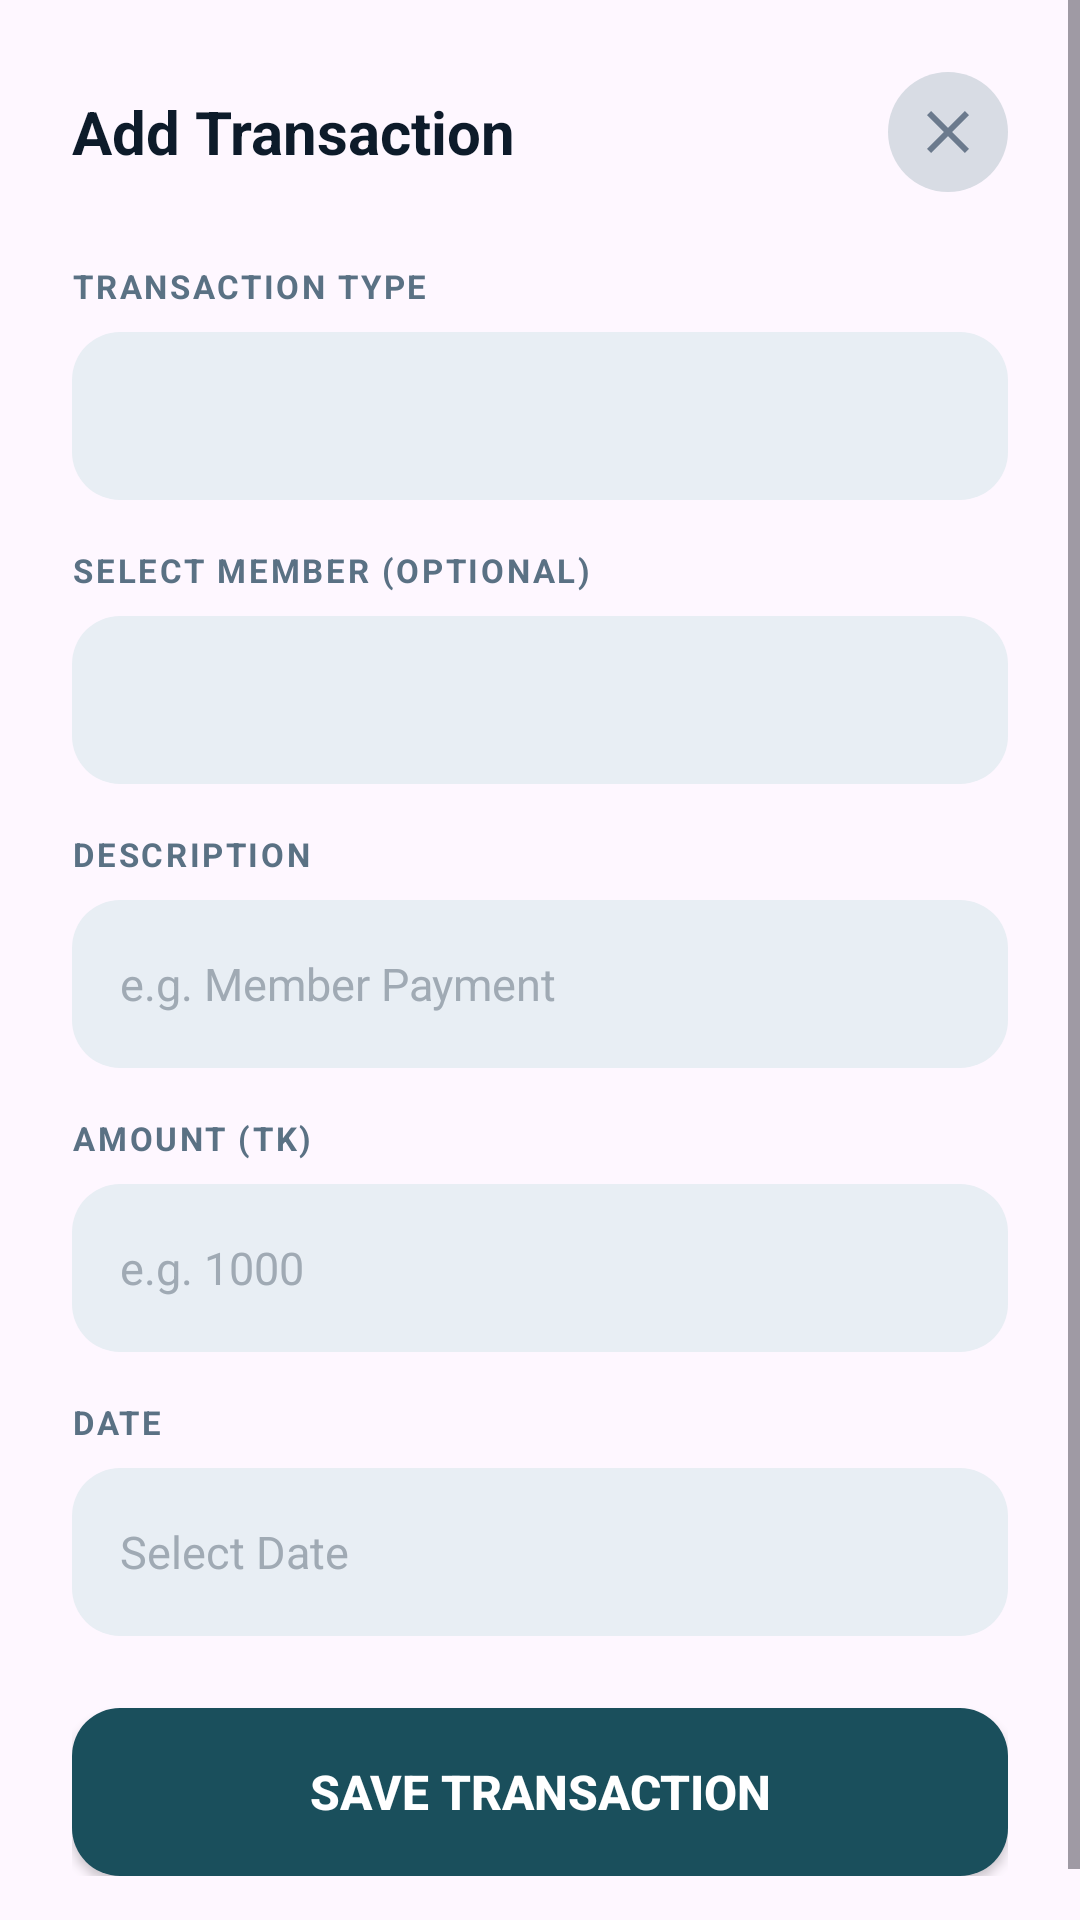

Where to tap for icons on this 1080px×1920px app screen, as [x,y]:
Close: [948,132]
